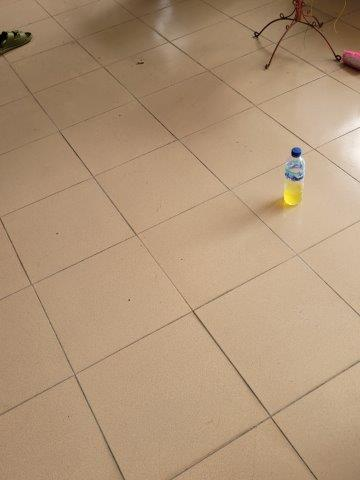botolplastik: (283, 148, 304, 205)
